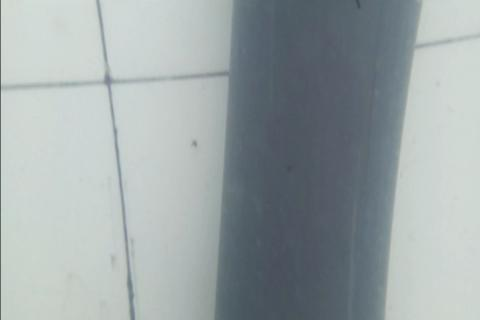keretakan: (354, 0, 363, 11)
